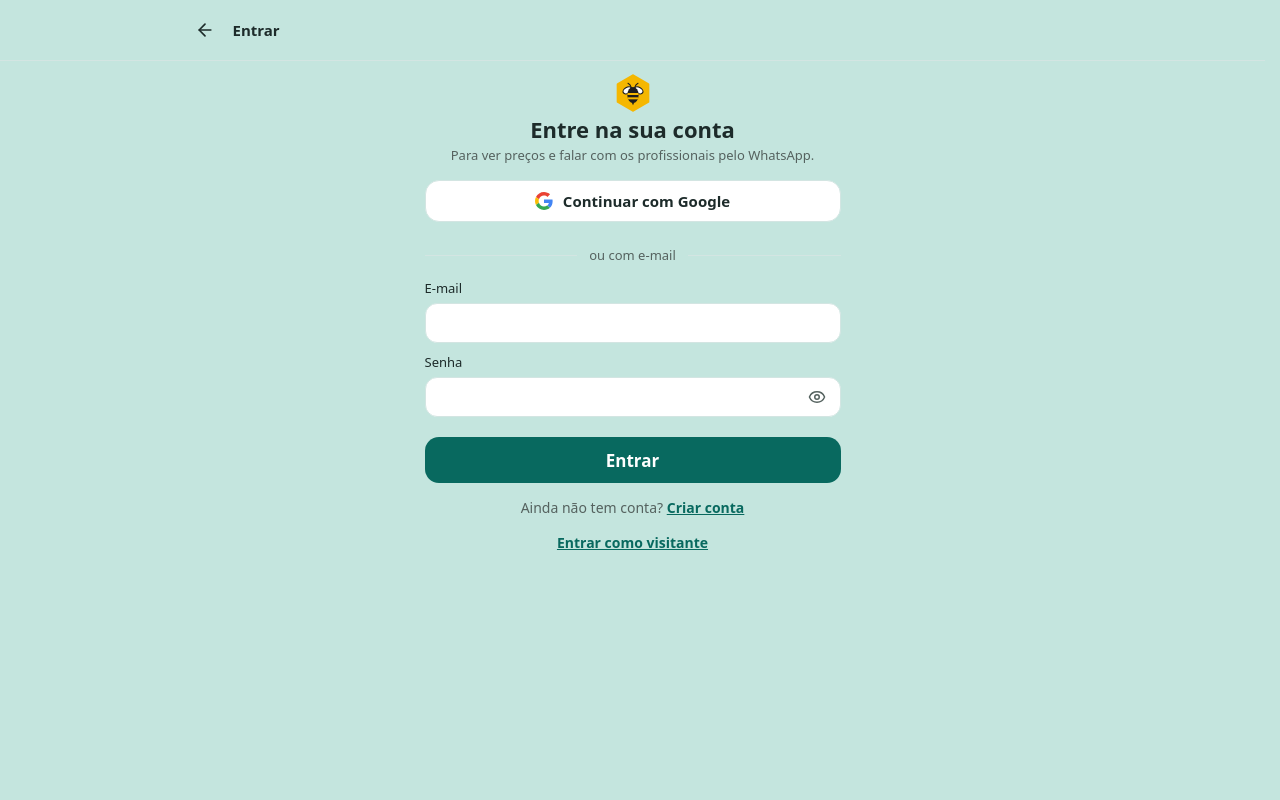
Test: Entrar: login real › avisa que o login social ainda não funciona
The image size is (1280, 800).
Click the button "Continuar com Google" at point(632, 201), box x1=424 y1=180 x2=840 y2=222
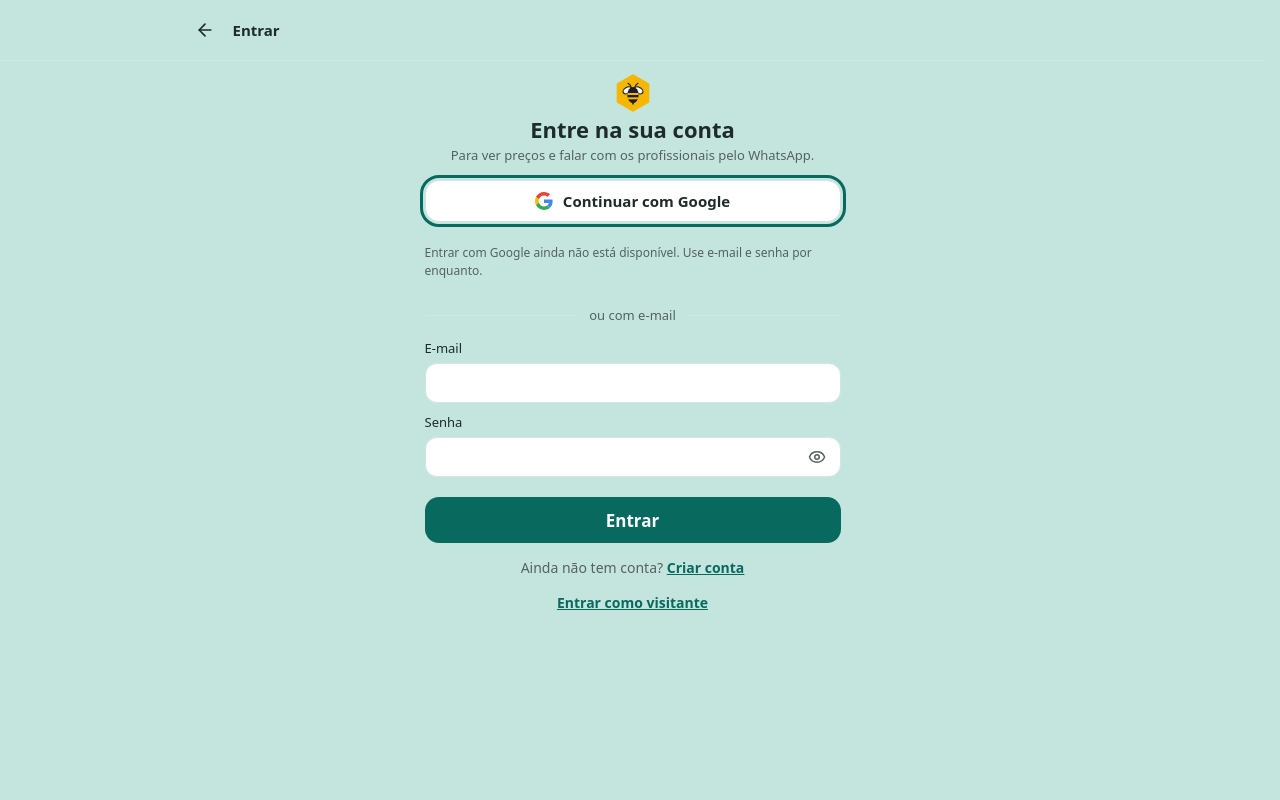
Expected: the text "Entrar com Google ainda não está disponível" is shown, x1=424 y1=244 x2=812 y2=279
